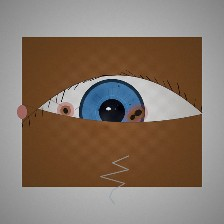foreign_body_visible: (118, 97, 158, 129)
